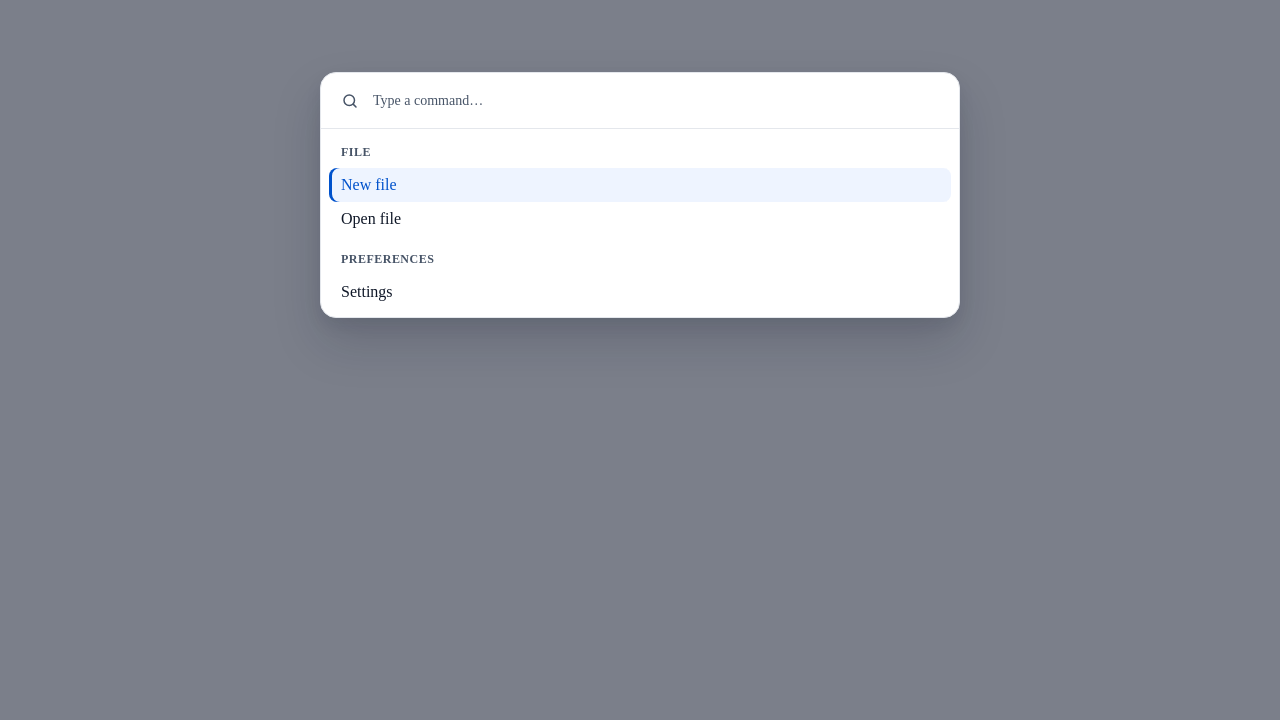
Test: Command › filters the list as the user types
The image size is (1280, 720).
Type "set" into the dropdown.
click(655, 100); type("set")  # box [371,89,939,112]
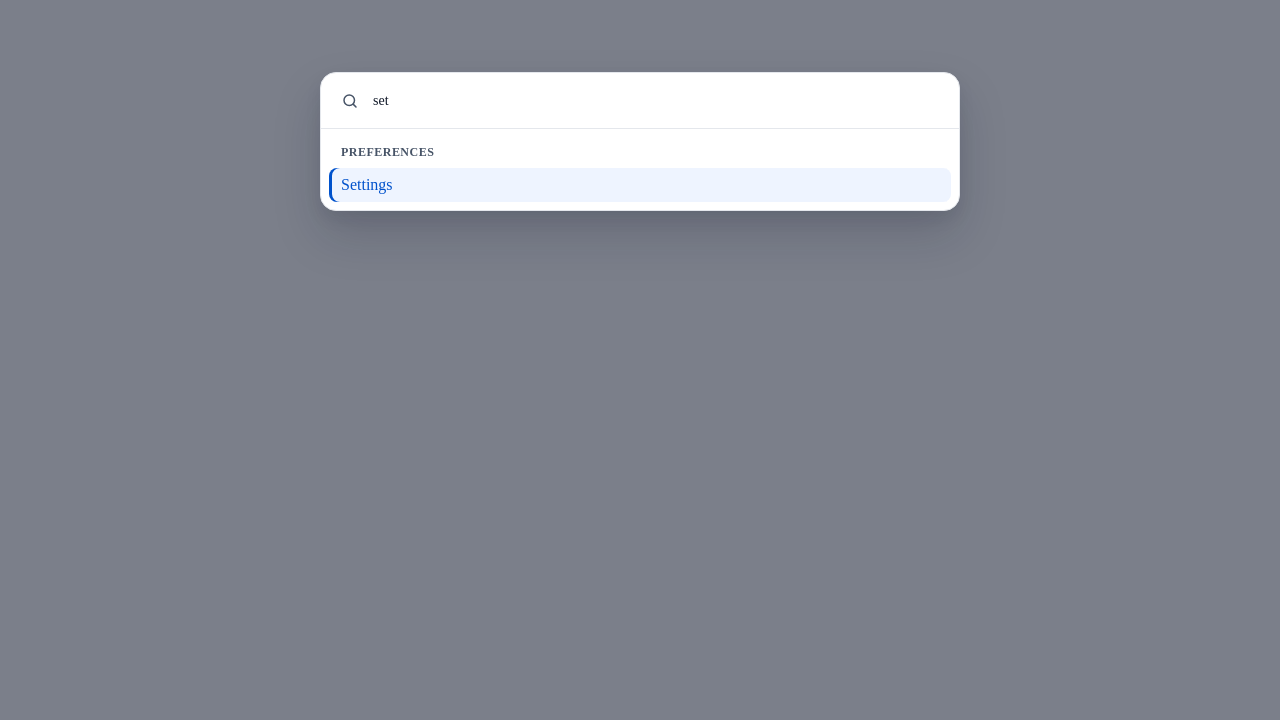
Expected: the option reads "Settings", [329,168,951,202]
Now the number of options is 1, box [329,168,951,202]
